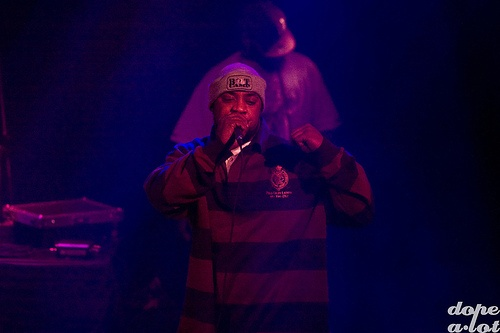head: (205, 61, 269, 143)
person: (143, 57, 368, 326)
